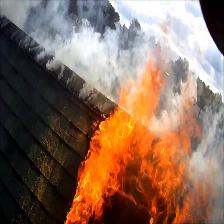fire: (79, 109, 186, 224)
smoke: (25, 3, 134, 72)
